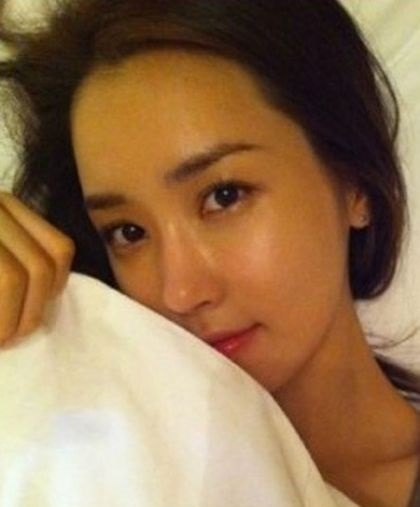face: (74, 67, 330, 402)
